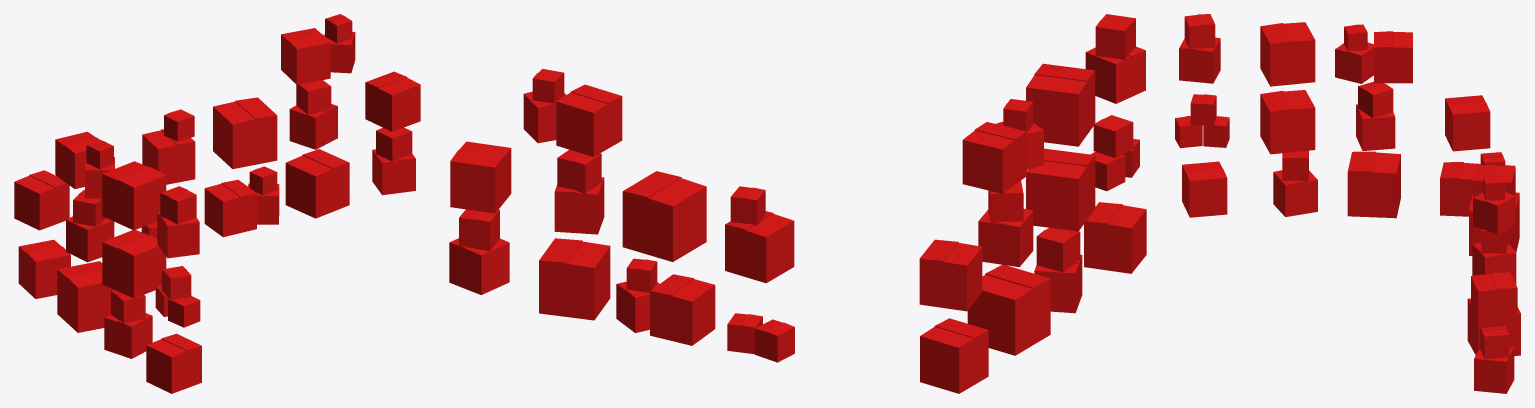
3 renders of one model, left to right at view 1: azimuth 30°, elevation 25°; view 2: azimuth 150°, elevation 25°; view 3: azimuth 270°, elevation 25°, orthographic. The views are drawn at different scales.
Parts seen in each view (by area): view 1: Uv_01; view 2: Uv_01; view 3: Uv_01.
Part boxes in pixels (x1,y1,x2,y2): Uv_01: [14, 14, 420, 393]; Uv_01: [449, 14, 1146, 393]; Uv_01: [1175, 14, 1520, 393].
Size of the model in its own units: 480 by 215 by 356.
